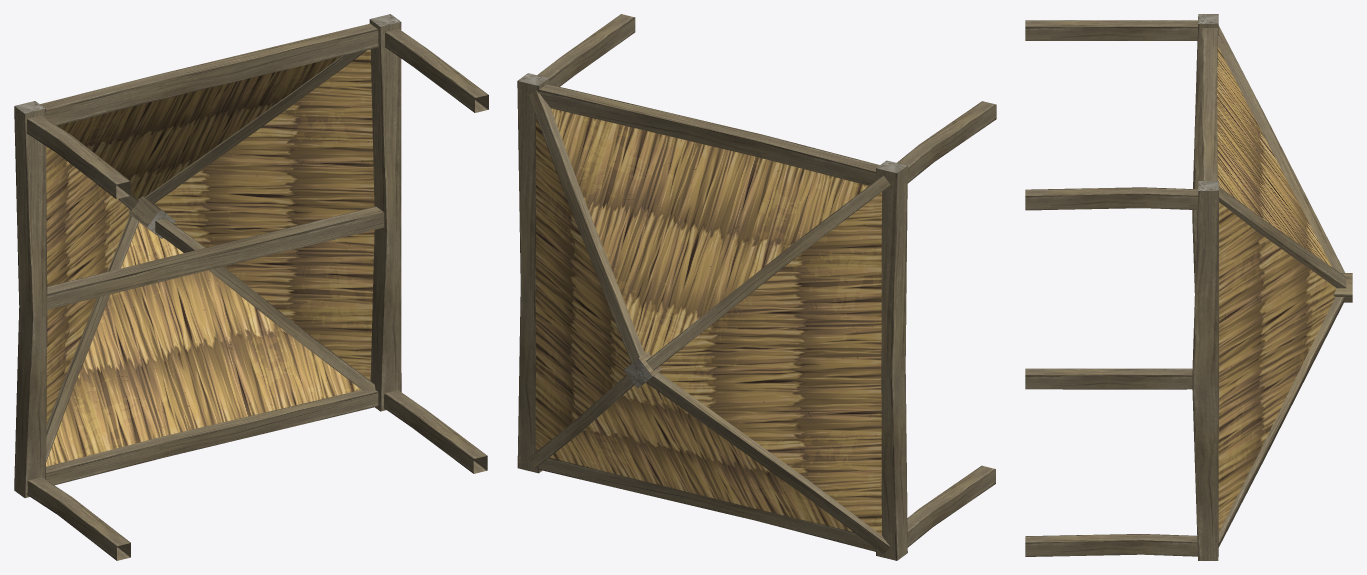
The model's file is Tent_E.fbx.
3 renders of one model, left to right at view 1: azimuth 30°, elevation 25°; view 2: azimuth 150°, elevation 25°; view 3: azimuth 270°, elevation 25°, orthographic. The views are drawn at different scales.
Visible parts, largest first — view 1: Tent_E; view 2: Tent_E; view 3: Tent_E.
Part boxes in pixels (bbox=[...]): Tent_E: bbox=[14, 14, 488, 560]; Tent_E: bbox=[517, 14, 996, 560]; Tent_E: bbox=[1025, 14, 1352, 560].
Bounding box in the file's own units: 6.44 × 6.29 × 5.04.
